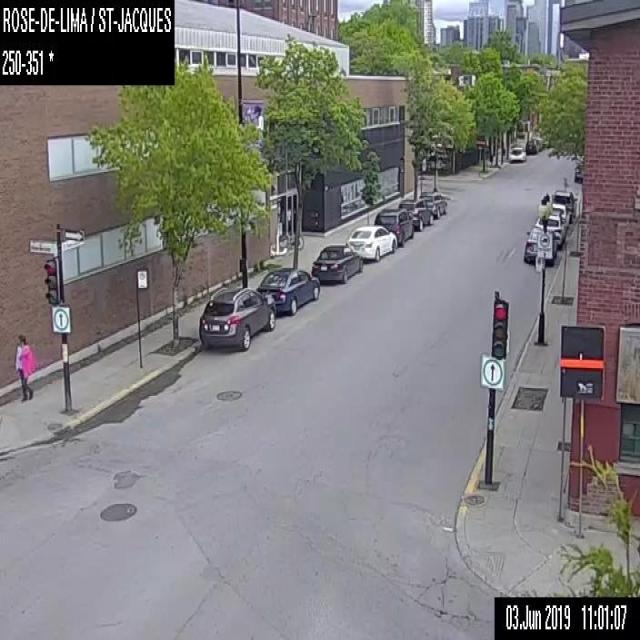pedestrian: (12, 335, 32, 400)
vehicle: (196, 284, 274, 351), (257, 266, 320, 316), (311, 243, 364, 282), (346, 223, 396, 256), (374, 205, 414, 244), (523, 224, 556, 265), (534, 210, 566, 246), (399, 196, 433, 228), (417, 188, 447, 215), (508, 144, 527, 161), (544, 231, 546, 232)
